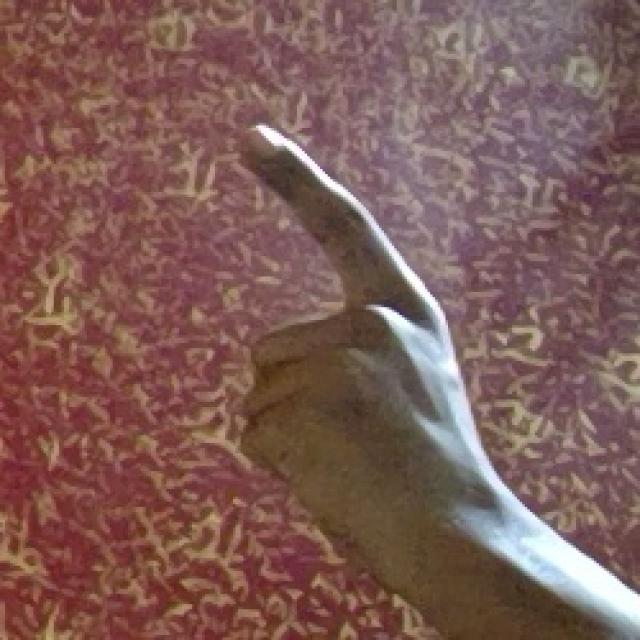Alphabet-I: (180, 99, 492, 602)
